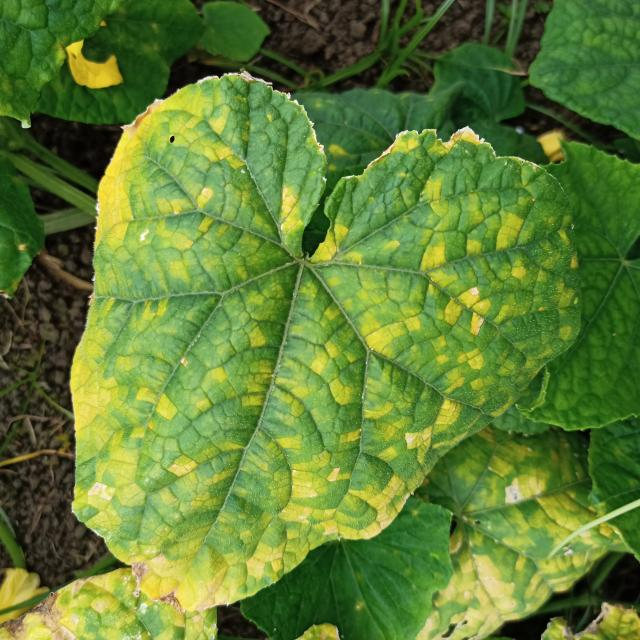disease_cucumber: (78, 78, 566, 600)
